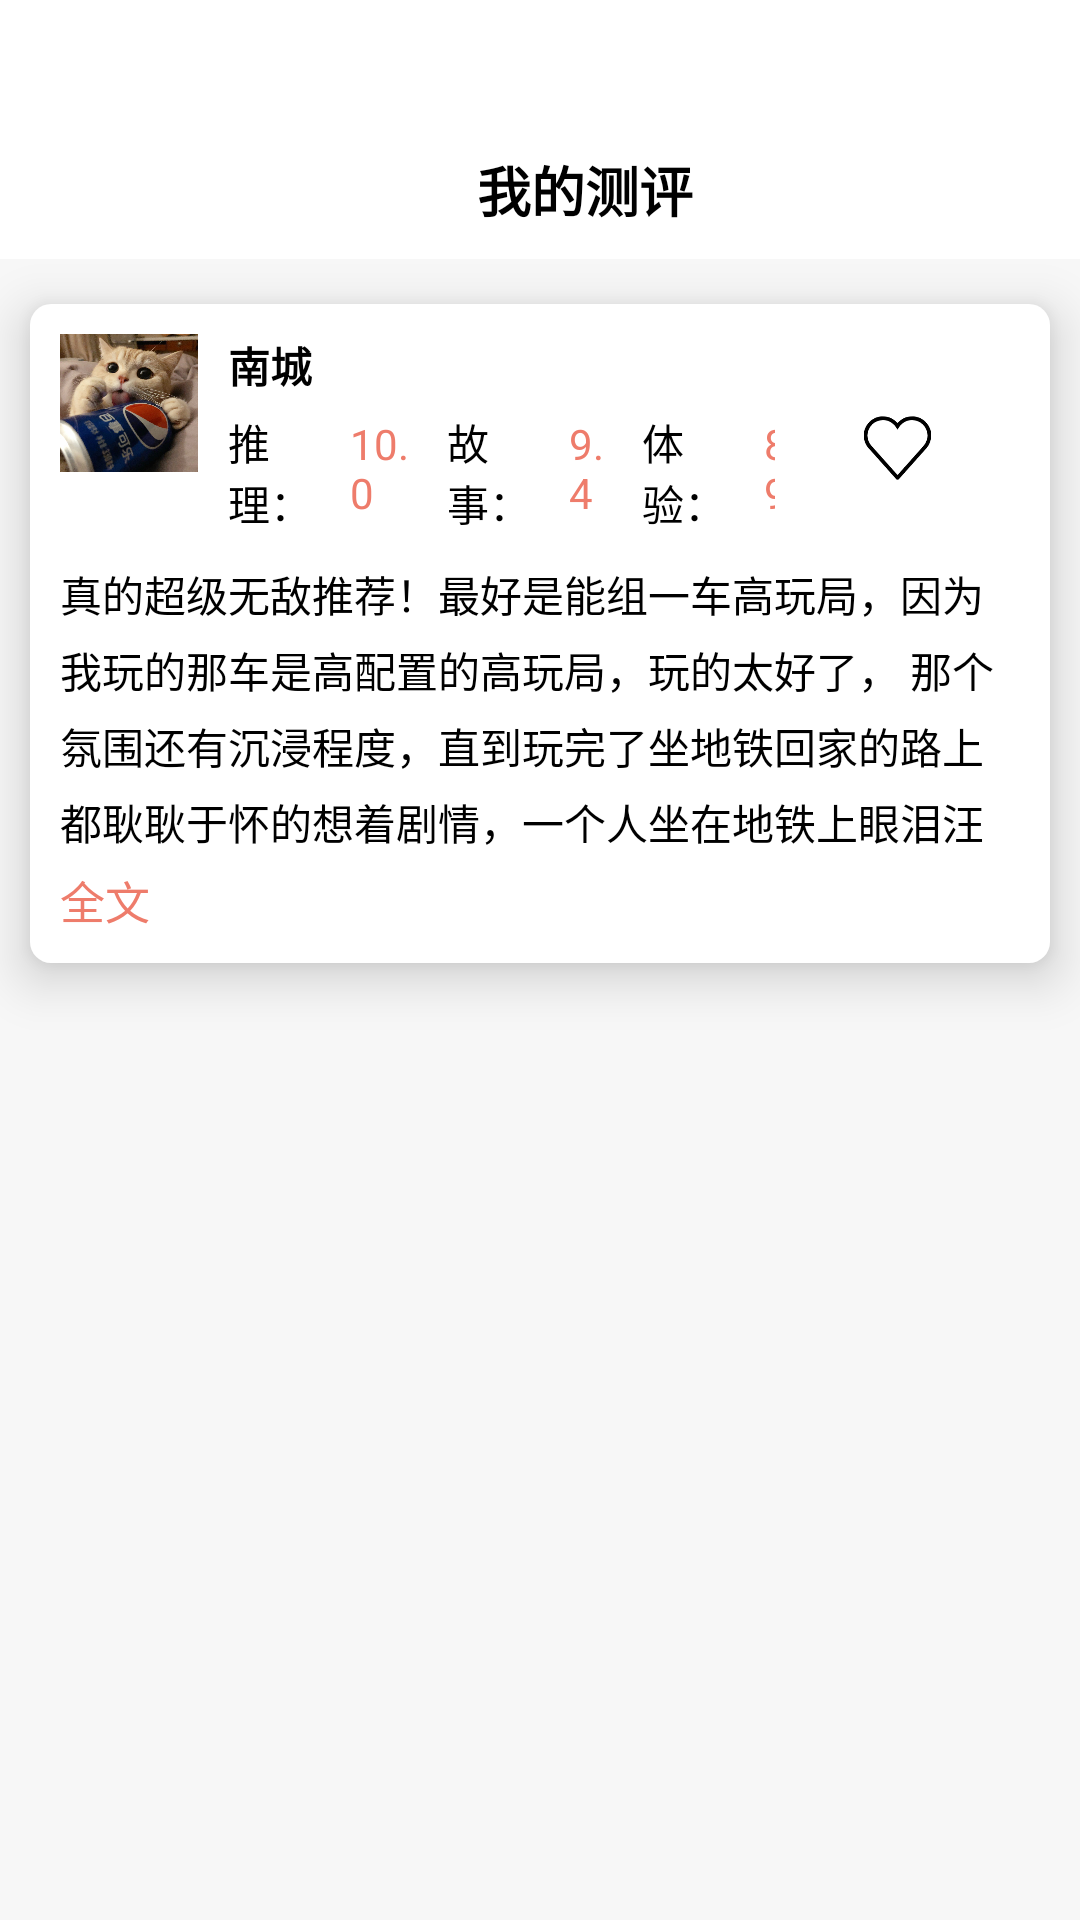

Icon click points for this 1080×1920 phone screenshot, format (x,y):
xin: (897,448)
